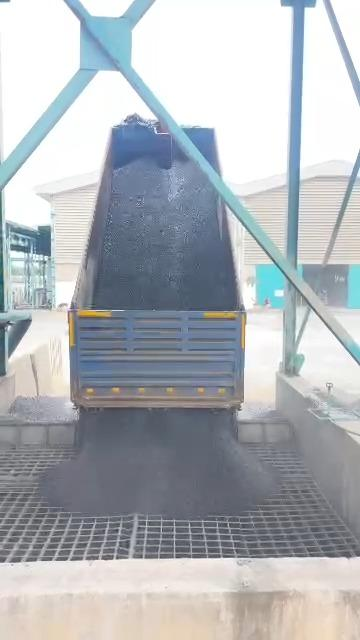gravel: (41, 408, 276, 520), (94, 158, 235, 310), (4, 396, 77, 424)
